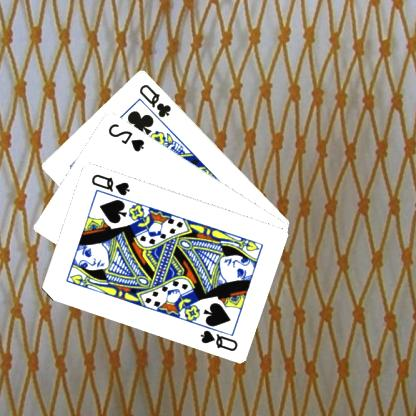2S: (107, 120, 147, 153)
QC: (138, 80, 174, 118)
QS: (90, 171, 133, 197), (198, 327, 240, 352)
